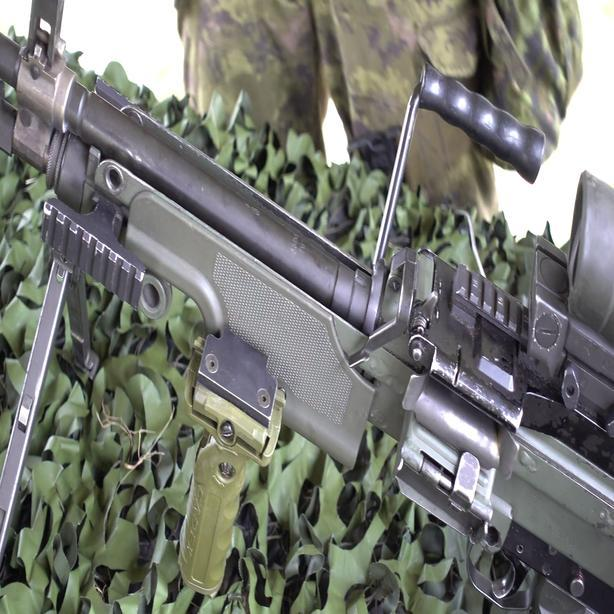Firearm: (0, 17, 614, 599)
